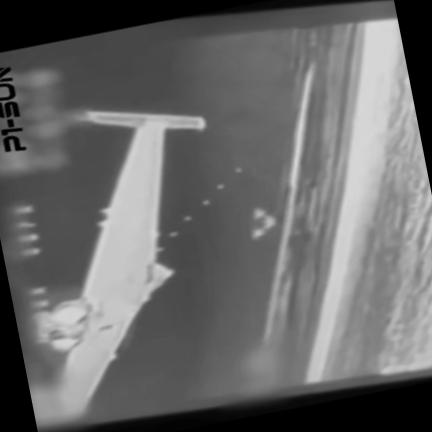Shahed: (38, 110, 206, 412)
